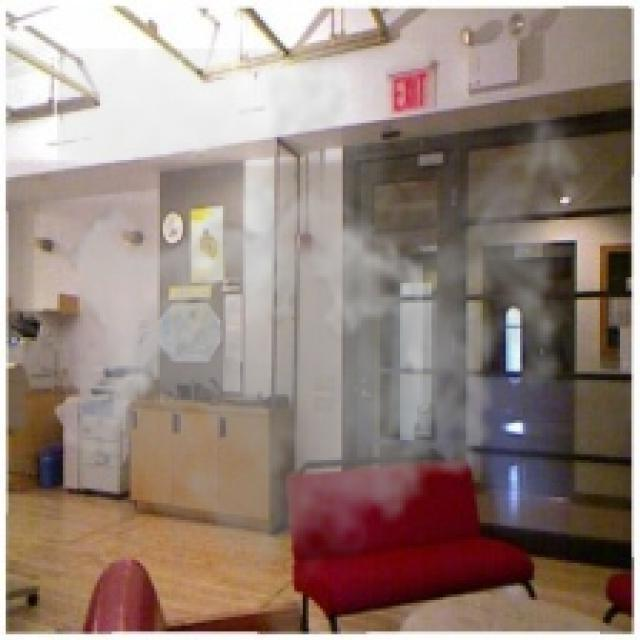Smoke: (57, 48, 600, 598)
